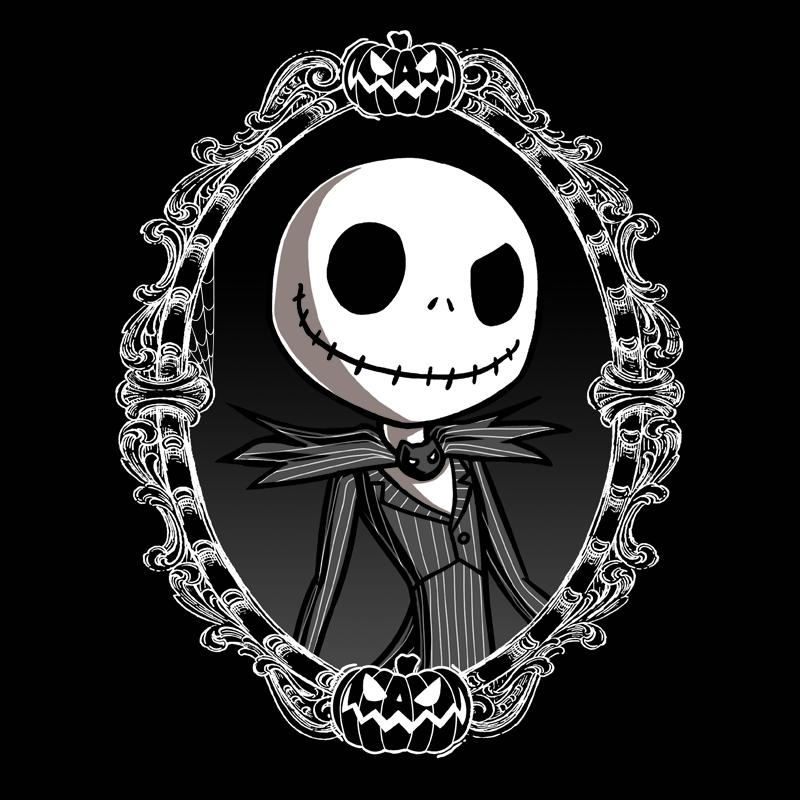Jack Skellington: (213, 156, 574, 669)
